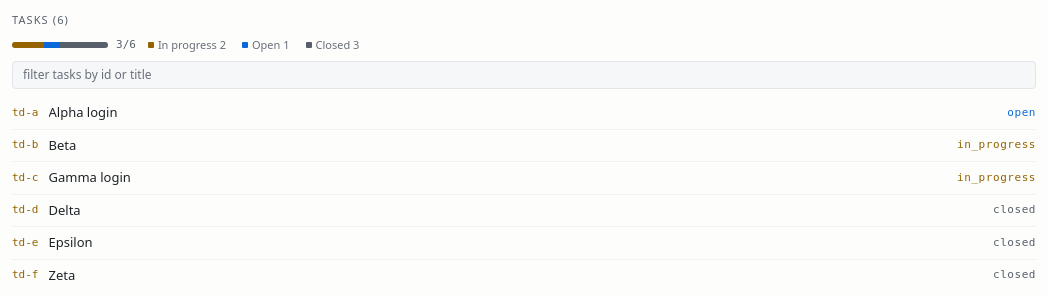
Test: RelatedIssues › status filter › names every status picked when nothing matches
Click the button "Open 1" at (266,45), box 238,36 -> 294,53
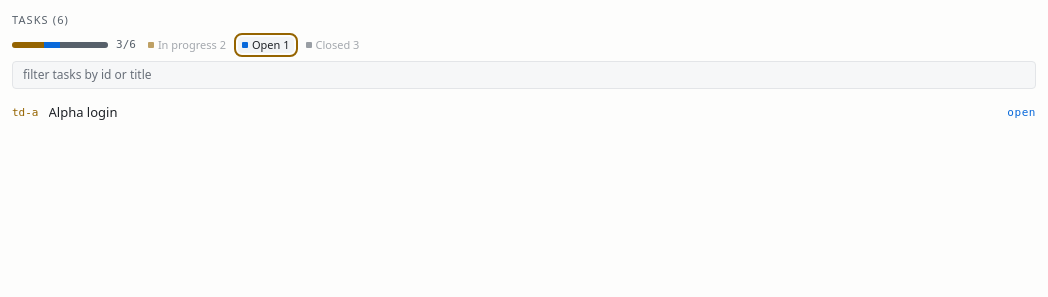
Click the button "Closed 3" at (332,45), box 302,36 -> 363,53
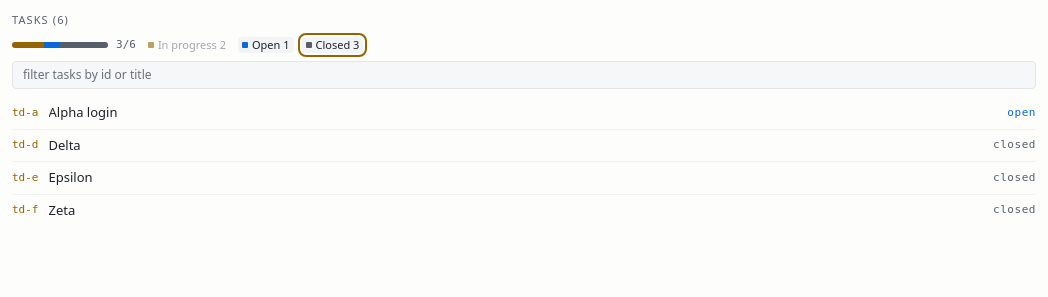
Type "gamma" into the search field named "Search tasks" at (524,75), box 12,61 -> 1036,89
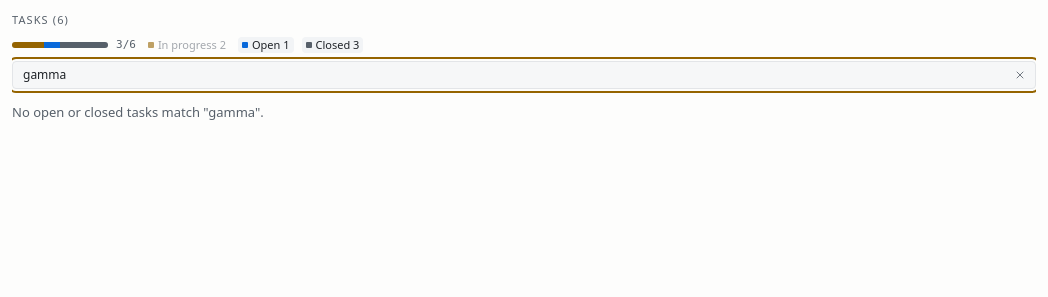
Expected: the text "No open or closed tasks match \"gamma\"." is shown, 12,103 -> 264,121
